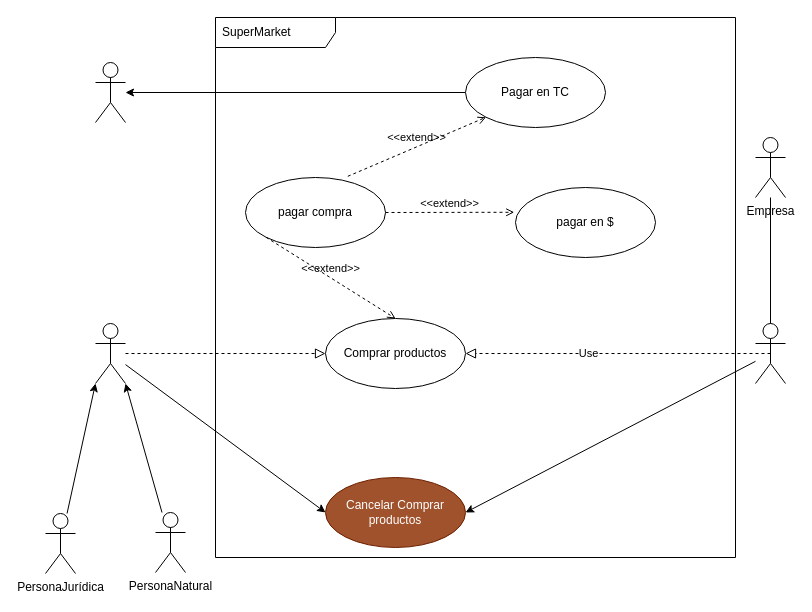
This 812x612 diagram has some shape labels left out. Here are the shapes that lost their labels. From the top down, the centre of each, then its label:
point 110,92: TC
point 110,353: Cliente
point 770,353: Cajero
